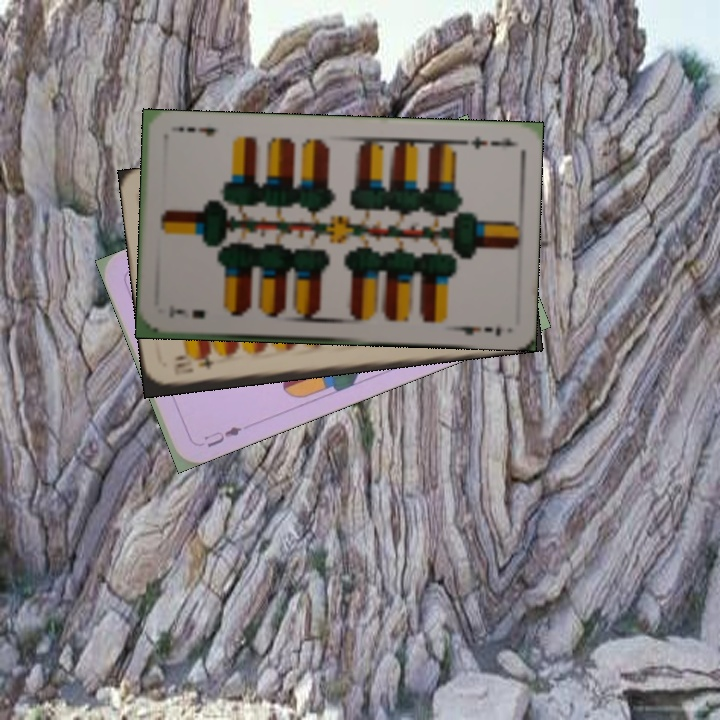E10: (169, 354, 217, 378)
E7: (457, 133, 516, 151), (165, 303, 208, 322)
EU: (200, 422, 245, 450)
